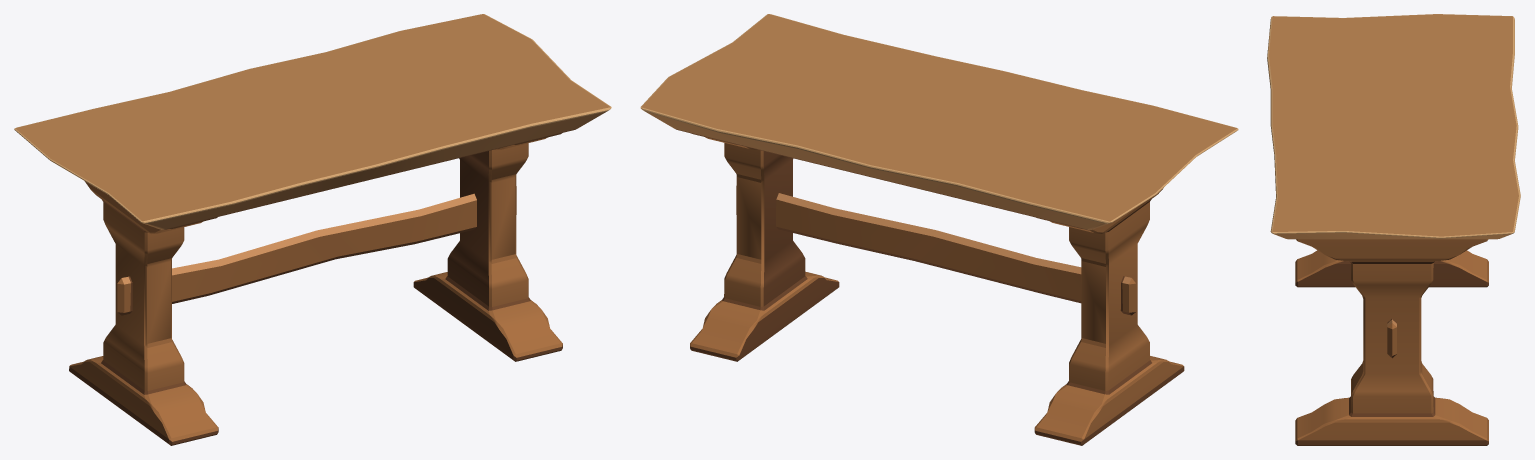
File: UD_TIR_Trestle_Table.glb
3 renders of one model, left to right at view 1: azimuth 30°, elevation 25°; view 2: azimuth 150°, elevation 25°; view 3: azimuth 270°, elevation 25°, orthographic. The views are drawn at different scales.
Visible parts, largest first — view 1: Trestle_Table; view 2: Trestle_Table; view 3: Trestle_Table.
Boxes of the visible parts, x1,y1,x2,y2 form: Trestle_Table: (14, 14, 611, 445); Trestle_Table: (640, 14, 1238, 445); Trestle_Table: (1267, 14, 1520, 445).
Size of the model in its own units: 1.61 by 0.7739 by 0.7718.
1 material, 1 textured.
